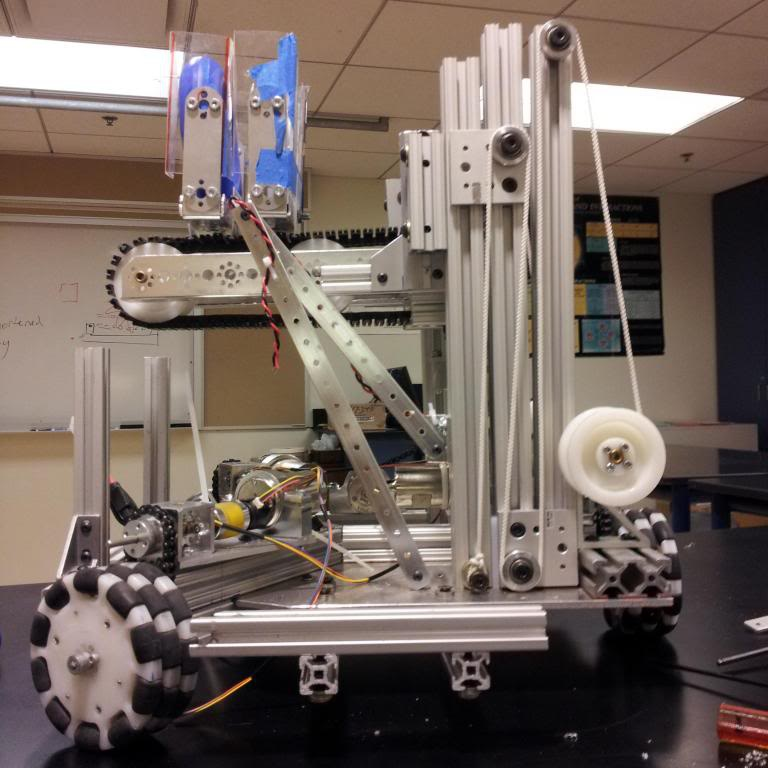robot: (23, 14, 695, 754)
